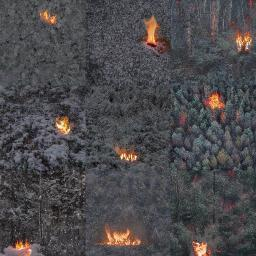Small fire: (138, 13, 168, 51), (102, 226, 143, 247), (11, 239, 36, 256), (235, 31, 255, 52), (203, 92, 226, 110), (117, 147, 140, 164), (191, 240, 215, 256), (53, 115, 71, 136), (38, 10, 60, 24)
